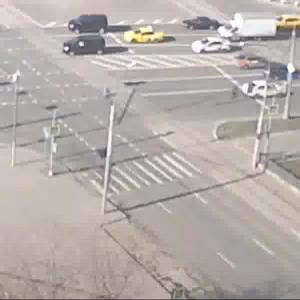car: (222, 11, 277, 45), (121, 26, 168, 47), (68, 14, 112, 35), (61, 38, 107, 57), (242, 82, 285, 101), (274, 9, 300, 32), (238, 52, 269, 71), (184, 16, 220, 31), (200, 42, 232, 54)
